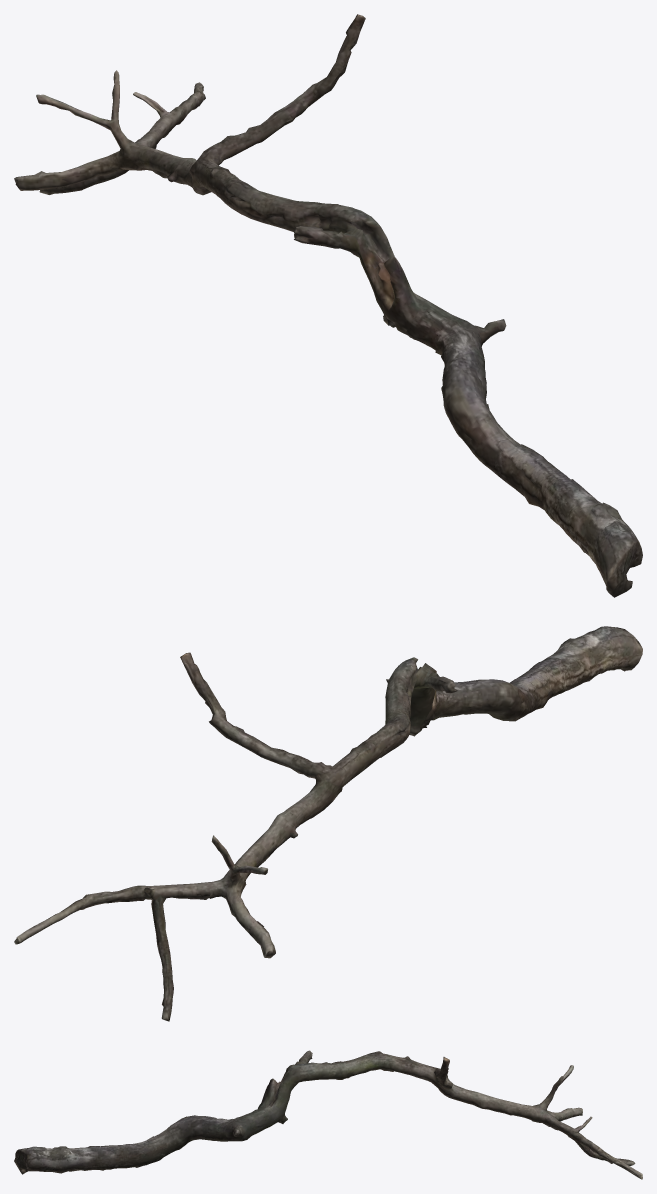
File: dry_branches_medium_01.glb
The picture shows the model from 3 angles, top to bottom: view 1: azimuth 30°, elevation 25°; view 2: azimuth 150°, elevation 25°; view 3: azimuth 270°, elevation 25°; orthographic projection. The views are drawn at different scales.
Parts seen in each view (by area): view 1: dry_branches_medium_01_a; view 2: dry_branches_medium_01_a; view 3: dry_branches_medium_01_a.
Boxes of the visible parts, x1,y1,x2,y2 form: dry_branches_medium_01_a: (14, 14, 642, 597); dry_branches_medium_01_a: (14, 626, 642, 1021); dry_branches_medium_01_a: (14, 1050, 642, 1179).
Bounding box in the file's own units: 0.3231 × 0.341 × 1.3.
Materials: 1 (1 with a texture image).
